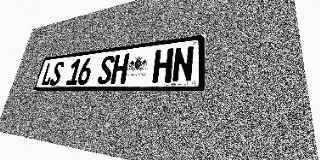1: (66, 59, 83, 85)
6: (76, 57, 94, 85)
H: (152, 48, 174, 83), (110, 53, 130, 84)
L: (40, 62, 56, 86)
N: (171, 45, 194, 83)
S: (97, 55, 115, 84), (49, 61, 65, 85)
